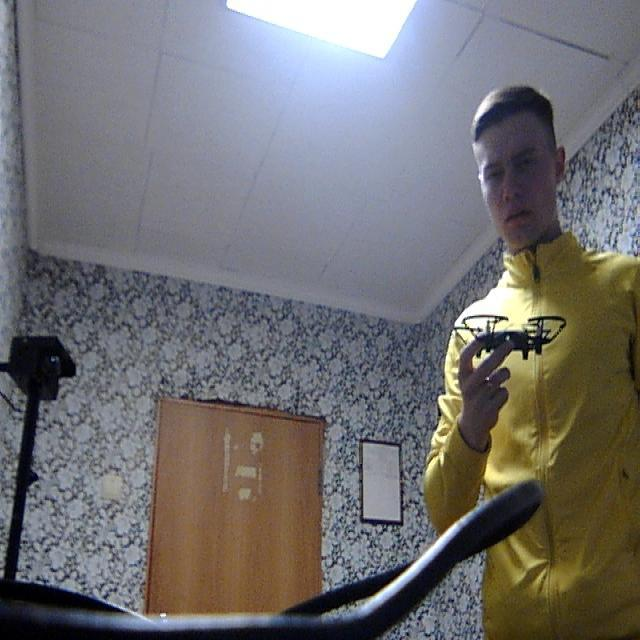drone: (452, 301, 571, 364)
